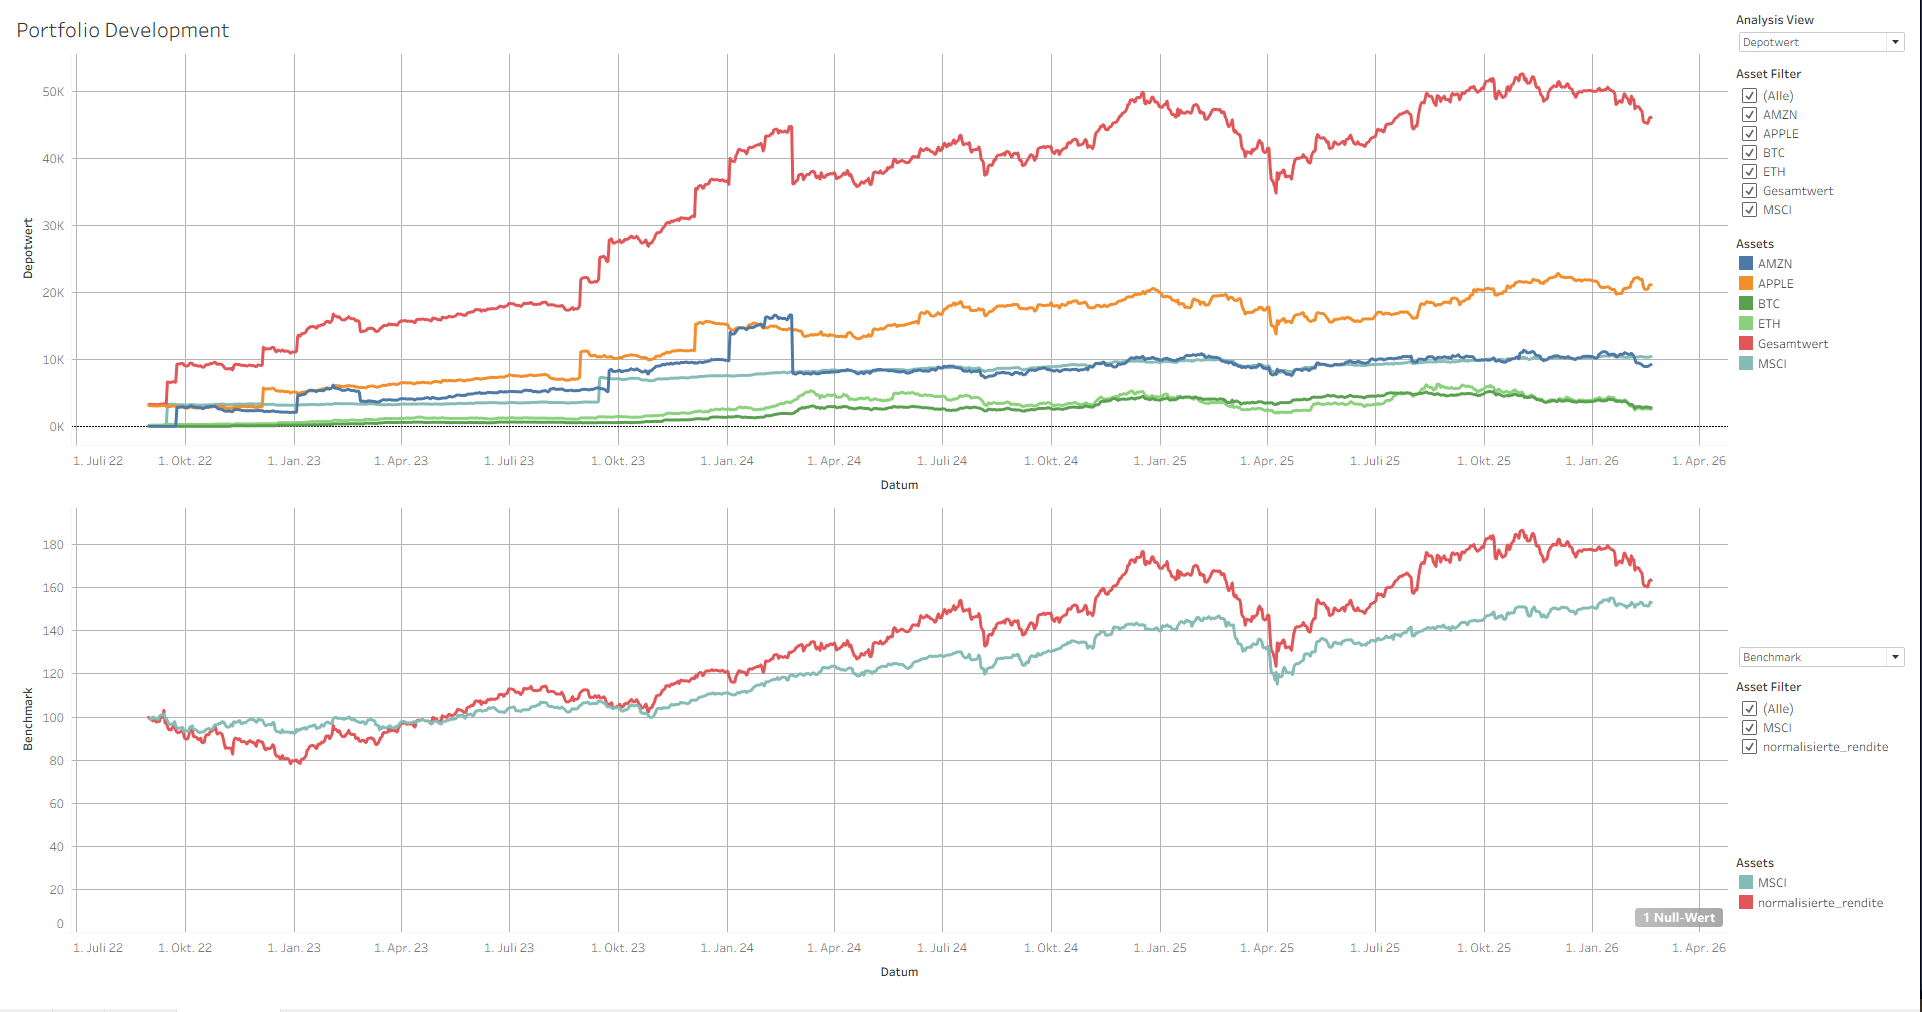

What the dashboard file says about the page in this screenshot:
{"tool":"tableau","page":{"name":"Dashboard 1","canvas":[1000,1000],"units":"permille","ordinal":0},"visuals":[{"type":"worksheet","title":"Blatt 1","mark":"Automatic","rows":["Depotwert_Kurswert_Benchmark (Kopie)_0979157040336899"],"cols":["date"],"box":[4.8,9.9,897,490.1]},{"type":"parameter","param":"[Parameters].[Parameter 1]","box":[901.8,9.9,93.5,64.2]},{"type":"filter","title":"Blatt 1","param":"[federated.1t6drn61fcidxp18kwepv1xet821].[none:Calculation_1208678387937281:nk]","box":[901.8,74.1,93.5,213]},{"type":"legend","title":"Blatt 1","param":"[federated.1t6drn61fcidxp18kwepv1xet821].[none:Calculation_1208678387937281:nk]","box":[901.8,287,93.5,213]},{"type":"worksheet","title":"Blatt 1 (2)","mark":"Automatic","rows":["Calculation_1208678386704384"],"cols":["date"],"box":[4.8,500,897,490.1]},{"type":"parameter","param":"[Parameters].[Ansicht wählen (Kopie)_0979157039271937]","box":[901.8,500,93.5,64.2]},{"type":"filter","title":"Blatt 1 (2)","param":"[federated.1t6drn61fcidxp18kwepv1xet821].[none:Colour (Kopie)_0979157039640578:n","box":[901.8,564.2,93.5,213]},{"type":"legend","title":"Blatt 1 (2)","param":"[federated.1t6drn61fcidxp18kwepv1xet821].[none:Colour (Kopie)_0979157039640578:n","box":[901.8,777.2,93.5,213]}]}

Visuals, with their boxes on the dashboard's canvas, which has no fixed pixel size, in thousandths of its width and height (x1, y1, x2, y2). These are canvas units, not pixel positions in the 1922x1012 screenshot, which may show the page scaled, cropped or inside an application window:
"Blatt 1" worksheet: box(5, 10, 902, 500)
parameter: box(902, 10, 995, 74)
"Blatt 1" filter: box(902, 74, 995, 287)
"Blatt 1" legend: box(902, 287, 995, 500)
"Blatt 1 (2)" worksheet: box(5, 500, 902, 990)
parameter: box(902, 500, 995, 564)
"Blatt 1 (2)" filter: box(902, 564, 995, 777)
"Blatt 1 (2)" legend: box(902, 777, 995, 990)
